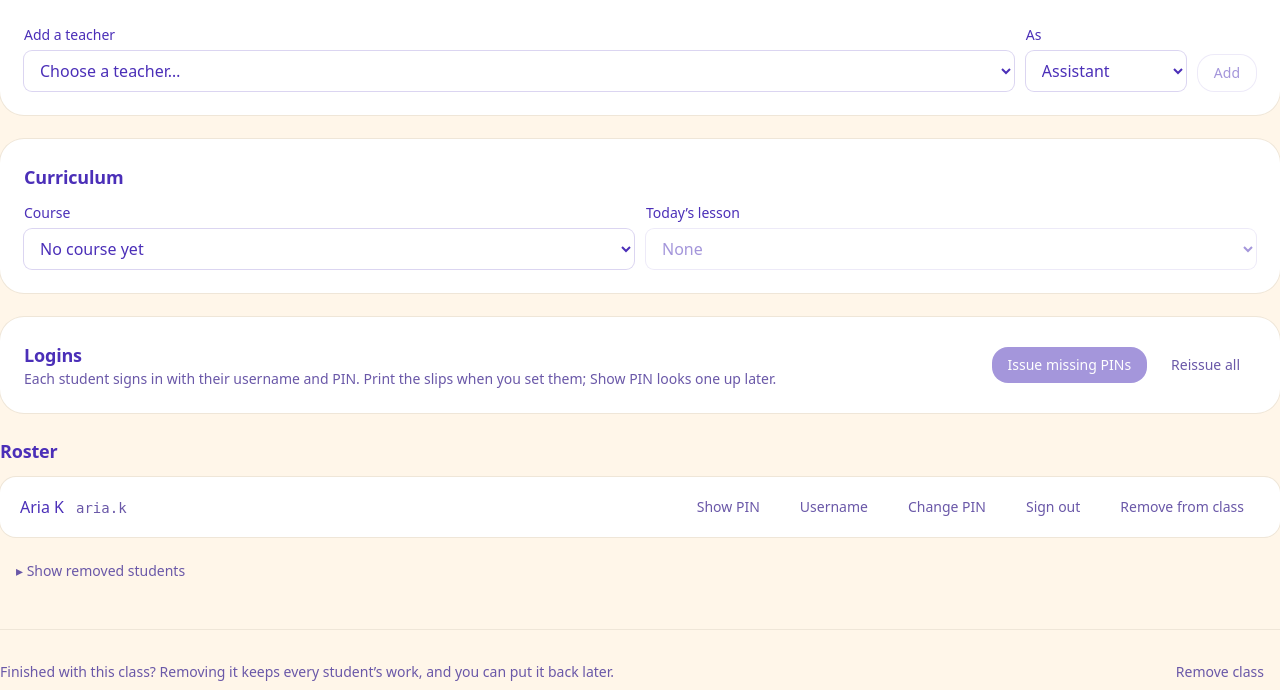
Test case: removing a child asks first, in words, then takes them off the roster
(page scrolled)
Click the button "Remove from class" at (1182, 507), box [1104,489,1260,525]
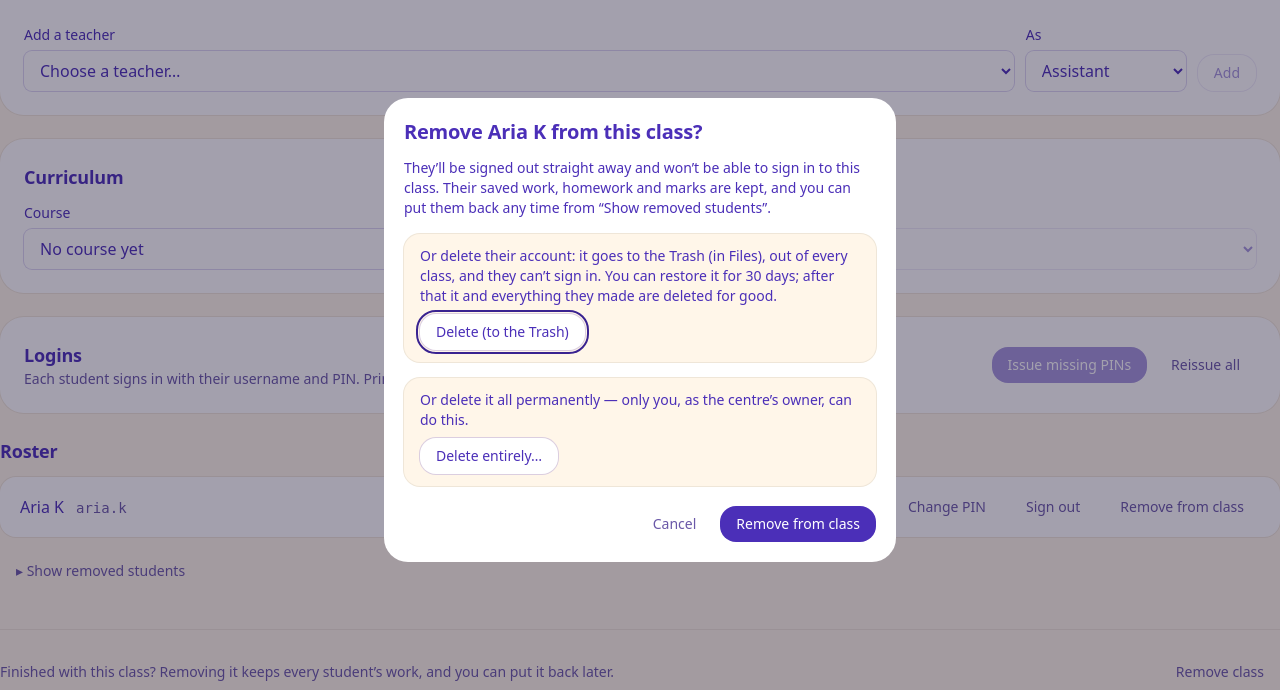
Expected: the heading "Remove Aria K from this class?" is shown, [404,118,702,145]
Expected: the text "saved work, homework and marks are kept" is shown, [404,158,860,217]
Click the button "Remove from class" at (798, 524), box [720,506,876,542]
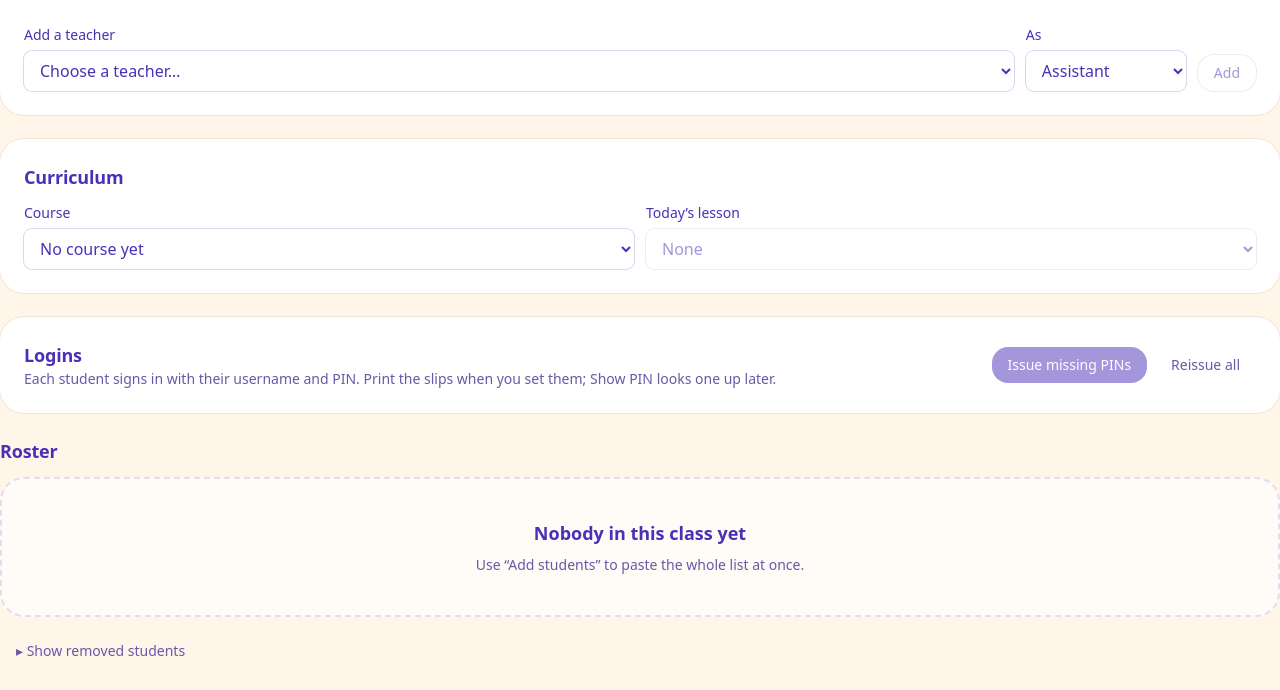
Expected: the link "Aria K" is gone
